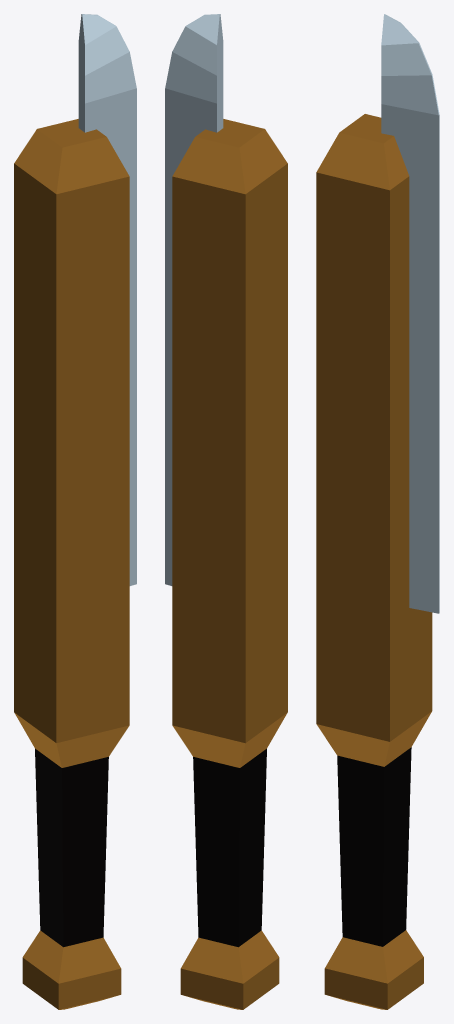
The model's file is Machete Bat.obj.
The picture shows the model from 3 angles, left to right: view 1: azimuth 30°, elevation 25°; view 2: azimuth 150°, elevation 25°; view 3: azimuth 330°, elevation 25°; orthographic projection.
Parts seen in each view (by area): view 1: Cube.008; view 2: Cube.008; view 3: Cube.008.
Part boxes in pixels (x1,y1,x2,y2): Cube.008: (14,14,136,1009); Cube.008: (165,14,287,1009); Cube.008: (316,14,439,1009).
Bounding box in the file's own units: 0.114 × 1.06 × 0.0825.
